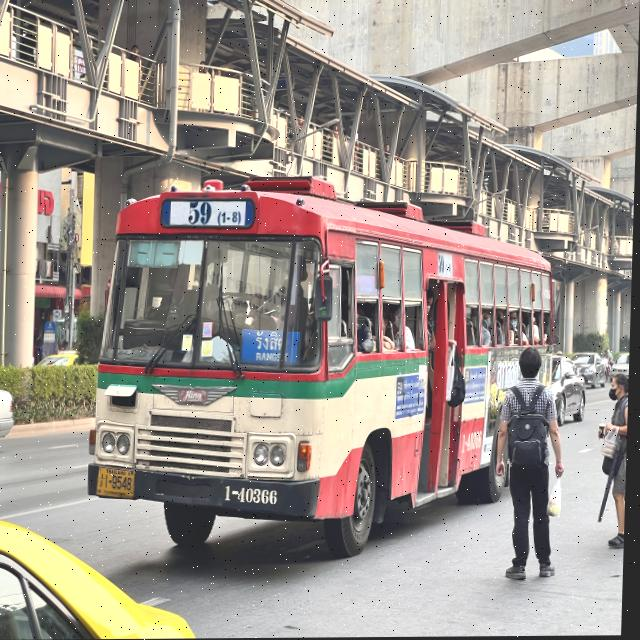BMTA-bus: (80, 162, 568, 561)
Bus Line Number: (183, 194, 245, 231)
Bus Side Number: (223, 484, 283, 511)
Destination Sign: (242, 329, 303, 369)
